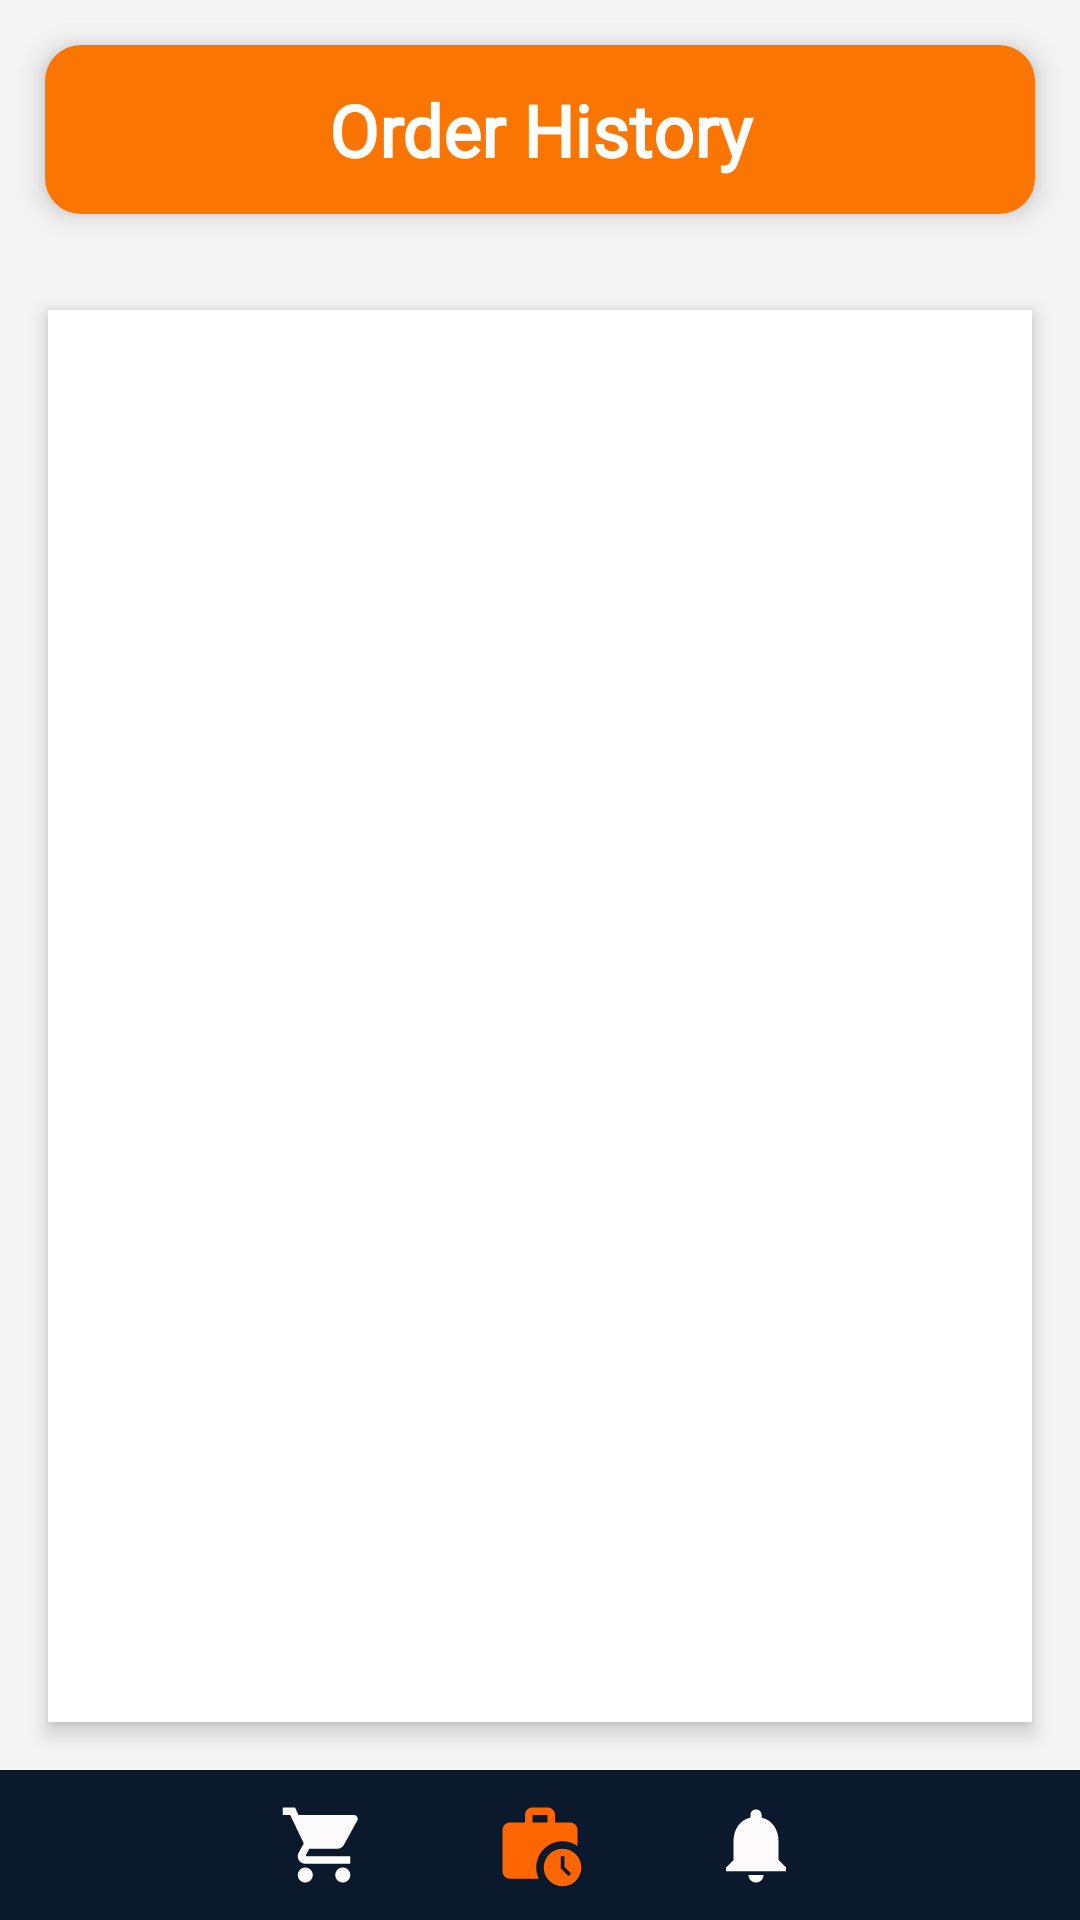

Point at icon controls on the screen. Image size 1080w x 1920h, points as [x,y].
cart: [320,1845]
notifications: [756,1846]
work history: [542,1847]
